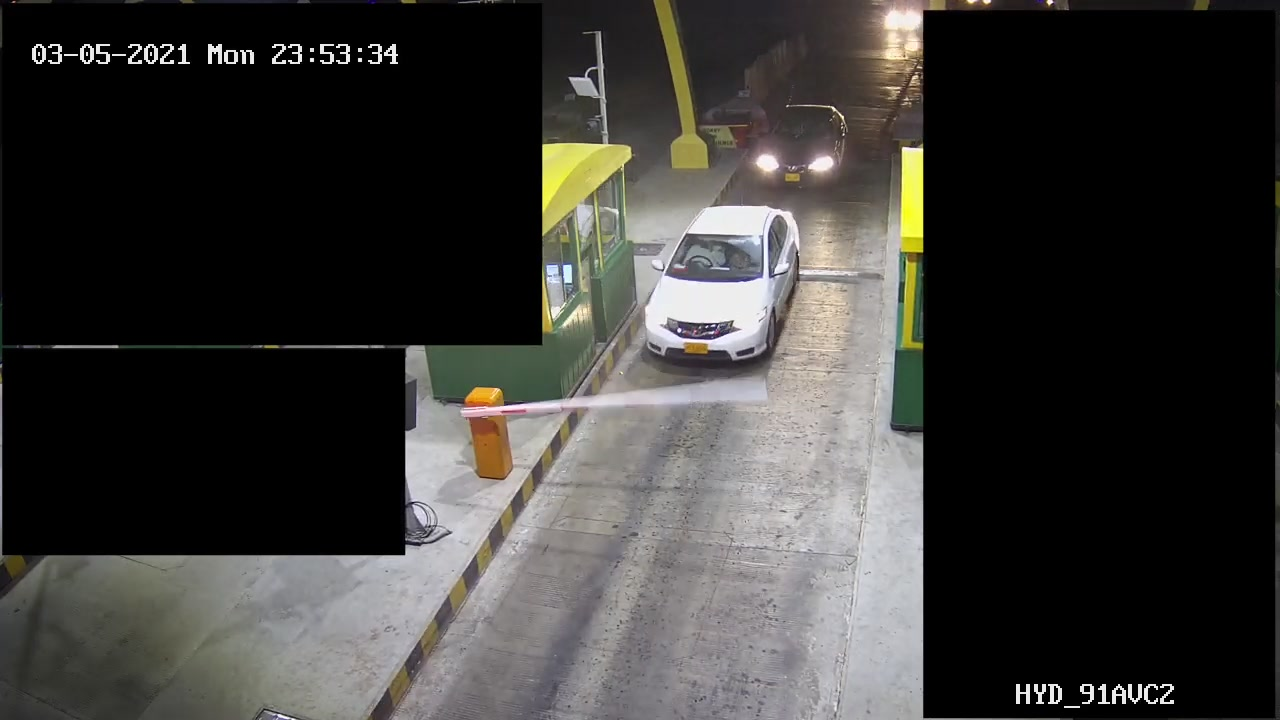F1: (632, 197, 809, 382)
